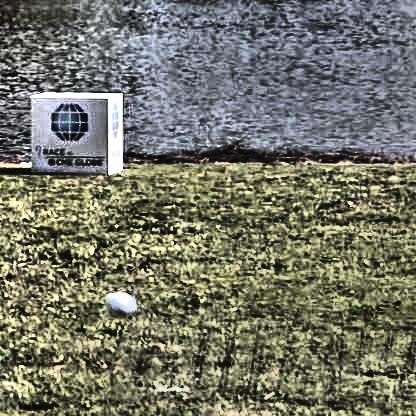golfball: (98, 287, 137, 317)
